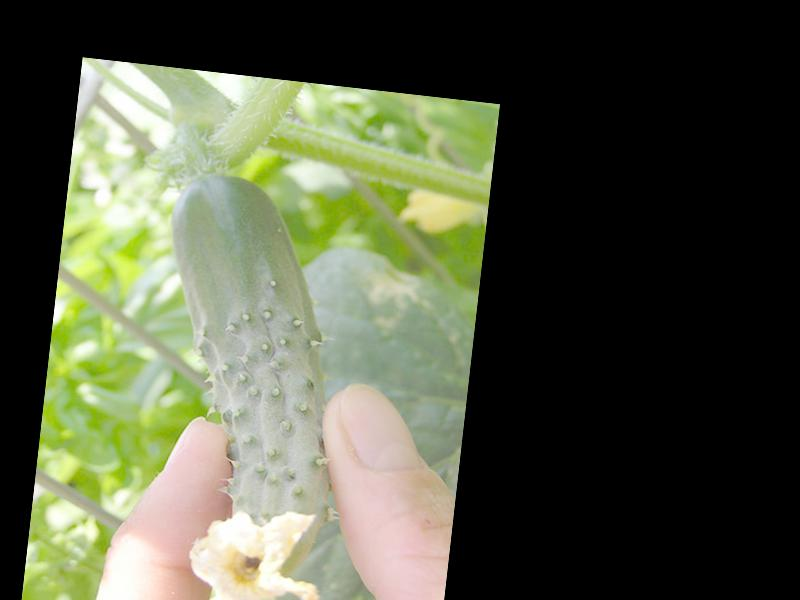Cucumber: (131, 168, 365, 600)
